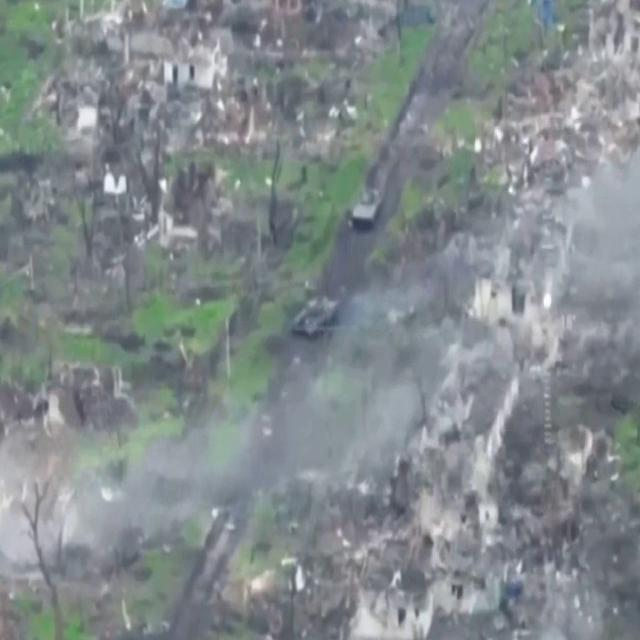AIFV: (352, 186, 384, 232)
MBT: (291, 290, 341, 348)
